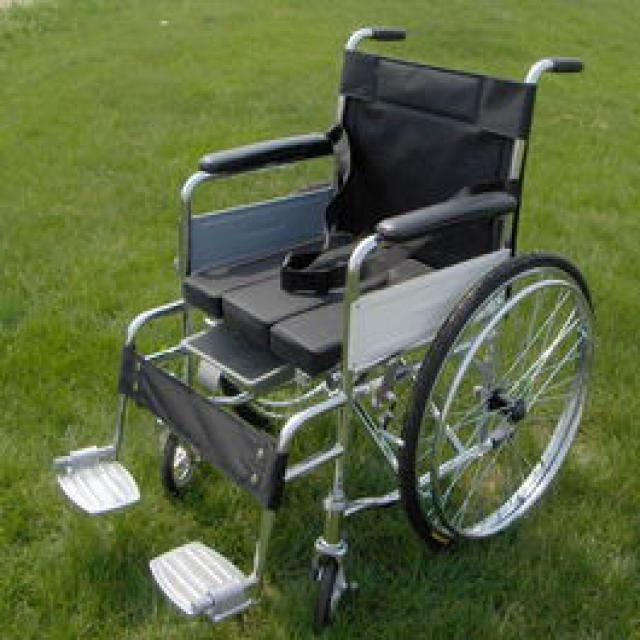wheelchair: (43, 23, 599, 638)
